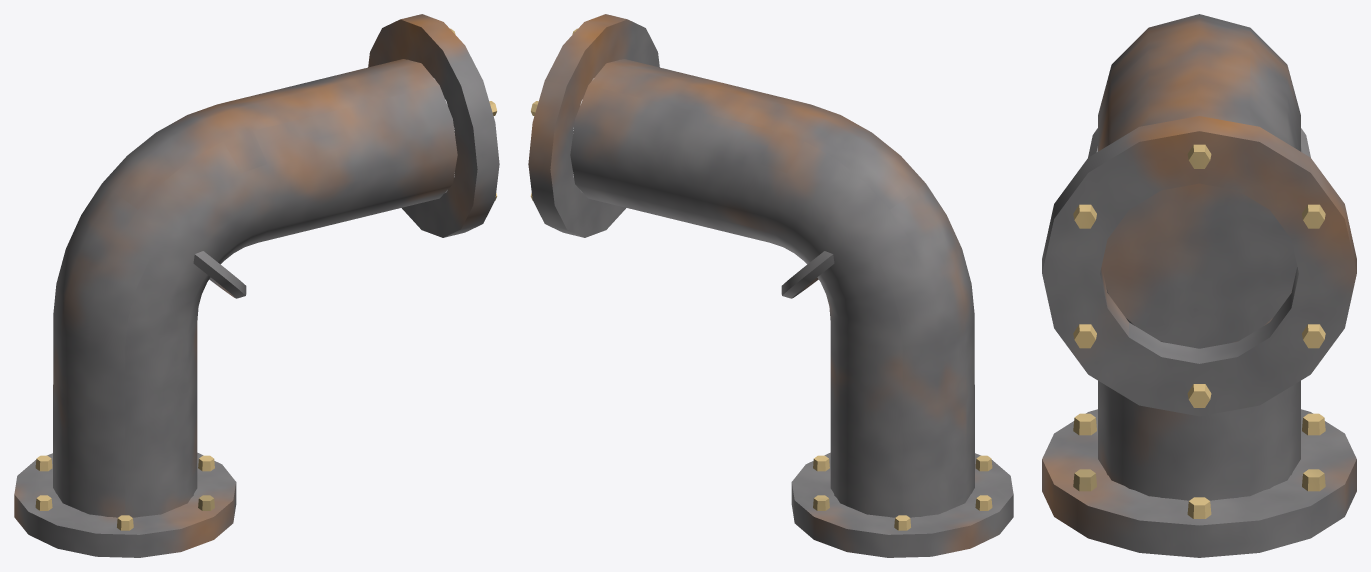
Rendered from pipe_elbow.gltf.
The picture shows the model from 3 angles, left to right: view 1: azimuth 30°, elevation 25°; view 2: azimuth 150°, elevation 25°; view 3: azimuth 270°, elevation 25°; orthographic projection. The views are drawn at different scales.
Parts seen in each view (by area): view 1: pipe_elbow; view 2: pipe_elbow; view 3: pipe_elbow.
Part boxes in pixels (<box>): pipe_elbow: <box>14,14,499,557</box>; pipe_elbow: <box>528,14,1013,557</box>; pipe_elbow: <box>1042,14,1356,557</box>.
Bounding box in the file's own units: 1.15 × 1.07 × 0.527.
1 material, 1 textured.
